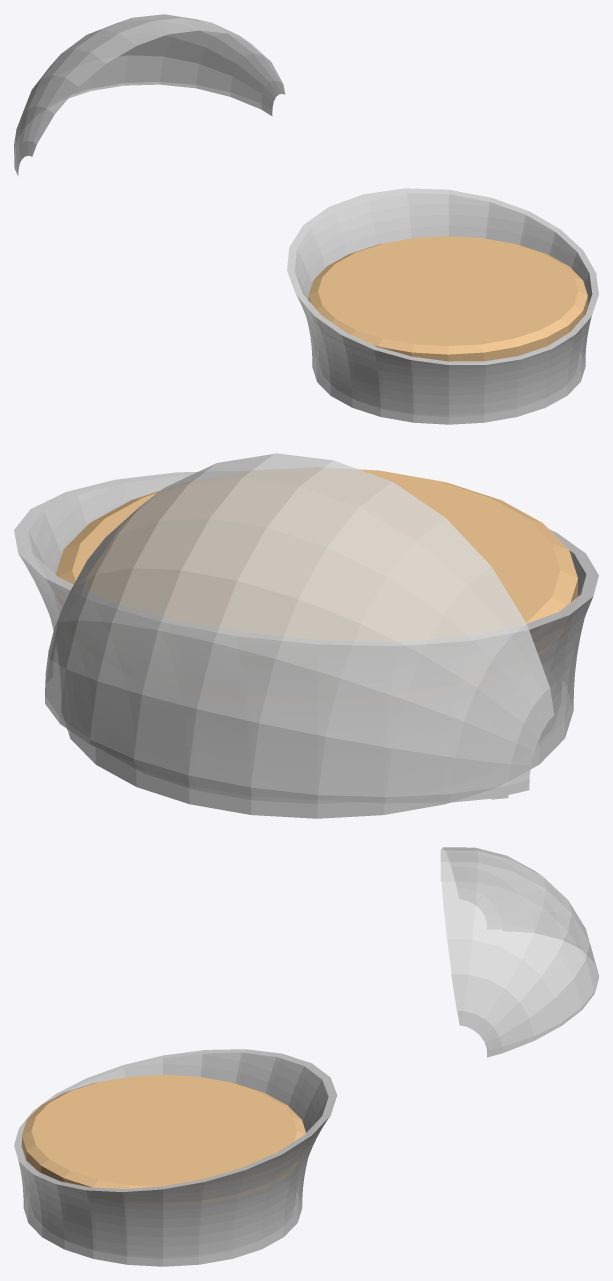
The model's file is modern_circular_daybed.glb.
3 views of the same model, one above another, from view 1: azimuth 30°, elevation 25°; view 2: azimuth 150°, elevation 25°; view 3: azimuth 270°, elevation 25° (orthographic). The views are drawn at different scales.
Parts seen in each view (by area): view 1: Node1, Node507, Node495, Node537, Node588, Node536, Node585, Node601, Node592, Node541, Node598, Node549 (+2 smaller); view 2: Node1, Node495, Node507, Node574, Node538, Node585, Node586, Node573, Node618, Node549, Node539, Node588 (+134 smaller); view 3: Node1, Node507, Node495, Node602, Node563, Node631, Node634, Node552, Node632, Node553, Node550, Node557 (+15 smaller).
Part boxes in pixels (x1,y1,x2,y2): Node1: (318, 236, 578, 346); Node507: (287, 188, 598, 364); Node495: (313, 352, 584, 423); Node537: (124, 55, 163, 83); Node588: (90, 55, 128, 88); Node536: (159, 56, 198, 84); Node585: (62, 61, 93, 97); Node601: (128, 34, 171, 56); Node592: (163, 37, 205, 63); Node541: (196, 64, 232, 91); Node598: (90, 33, 135, 62); Node549: (96, 34, 135, 58); Node1: (72, 467, 560, 640); Node495: (68, 682, 572, 817); Node507: (14, 471, 598, 645); Node574: (197, 642, 275, 723); Node538: (259, 659, 339, 736); Node585: (188, 709, 258, 787); Node586: (251, 723, 325, 794); Node573: (213, 581, 298, 658); Node618: (275, 599, 360, 677); Node549: (142, 630, 213, 708); Node539: (325, 678, 403, 748); Node588: (133, 695, 196, 774); Node1: (31, 1075, 296, 1186); Node507: (14, 1049, 337, 1191); Node495: (24, 1193, 301, 1265); Node602: (472, 908, 506, 946); Node563: (443, 907, 475, 939); Node631: (441, 881, 477, 907); Node634: (475, 882, 510, 915); Node552: (501, 917, 534, 958); Node632: (468, 939, 498, 979); Node553: (522, 932, 557, 976); Node550: (508, 891, 542, 931); Node557: (505, 959, 540, 1001).
Bounding box in the file's own units: 110 × 69.64 × 135.
